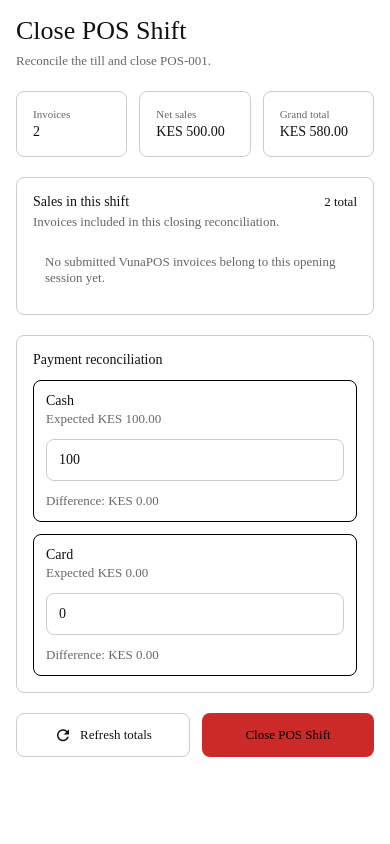
Test case: PosCloseShiftScreen › pre-fills each payment count and calculates its live difference
Expected: the text "Payment reconciliation" is shown, [33,352,162,367]
Expected: the field named "Counted amount Card" holds "0", [46,593,344,635]
Replace the text in the field named "Counted amount Cash" with "80.5" at (195, 460), box [46,439,344,481]
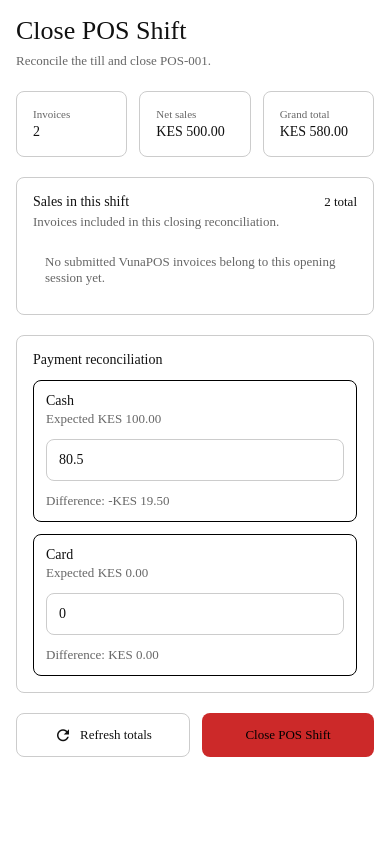
Result: the text "Difference: -KES 19.50" is shown at [46,493,170,508]
Replace the text in the field named "Counted amount Cash" with "1200.50" at (195, 460), box [46,439,344,481]
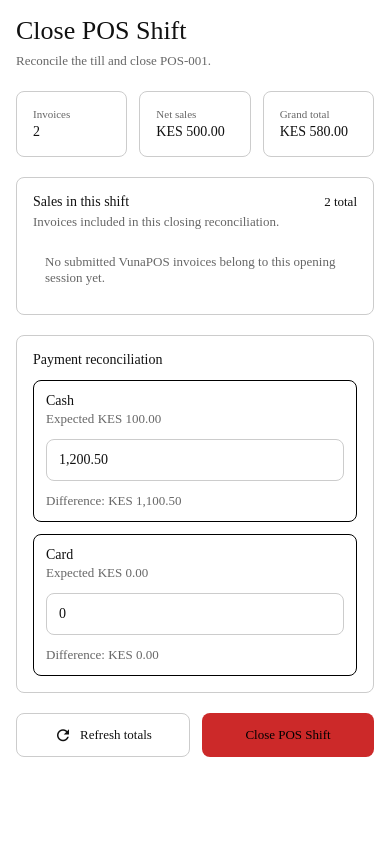
Result: the field named "Counted amount Cash" holds "1,200.50" at [46,439,344,481]
Result: the text "Difference: KES 1,100.50" is shown at [46,493,182,508]
